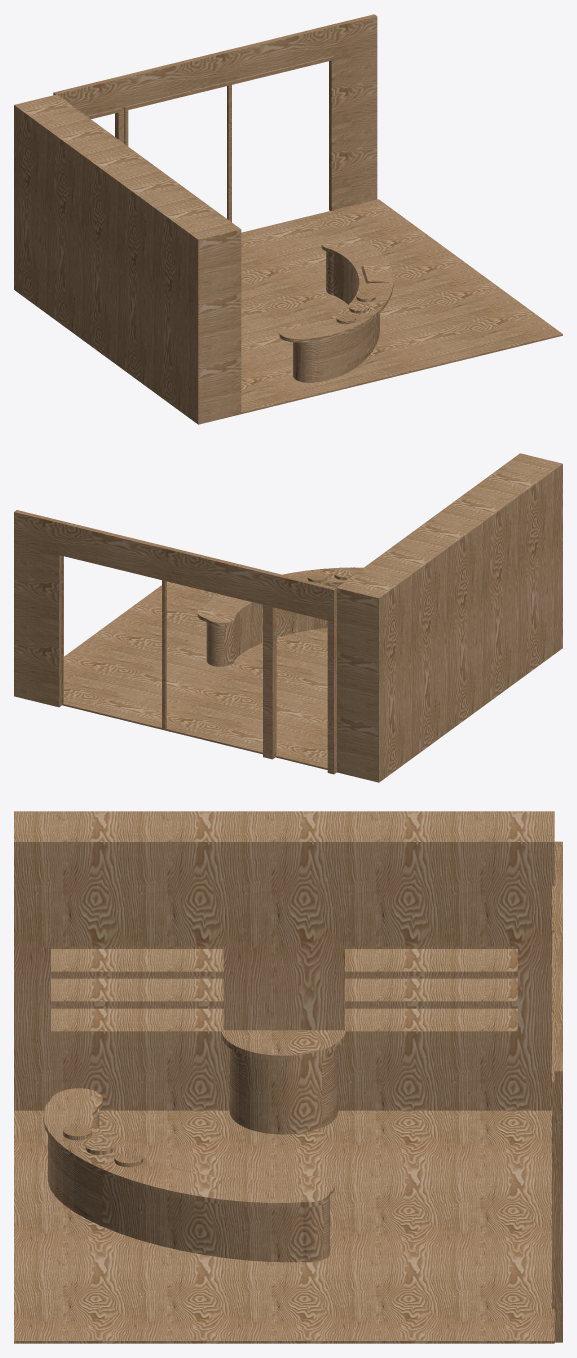
File: SalleHugo.glb
3 renders of one model, top to bottom at view 1: azimuth 30°, elevation 25°; view 2: azimuth 150°, elevation 25°; view 3: azimuth 270°, elevation 25°, orthographic. The views are drawn at different scales.
Visible parts, largest first — view 1: Mesh_Mesh_head_geo.001_lambert2SG.001; view 2: Mesh_Mesh_head_geo.001_lambert2SG.001; view 3: Mesh_Mesh_head_geo.001_lambert2SG.001.
Boxes of the visible parts, left/top/right/bottom form: Mesh_Mesh_head_geo.001_lambert2SG.001: left=14, top=14, right=562, bottom=424; Mesh_Mesh_head_geo.001_lambert2SG.001: left=14, top=453, right=562, bottom=782; Mesh_Mesh_head_geo.001_lambert2SG.001: left=14, top=811, right=562, bottom=1343.
Bounding box in the file's own units: 10.67 × 5.17 × 9.48.
Materials: 1 (1 with a texture image).
